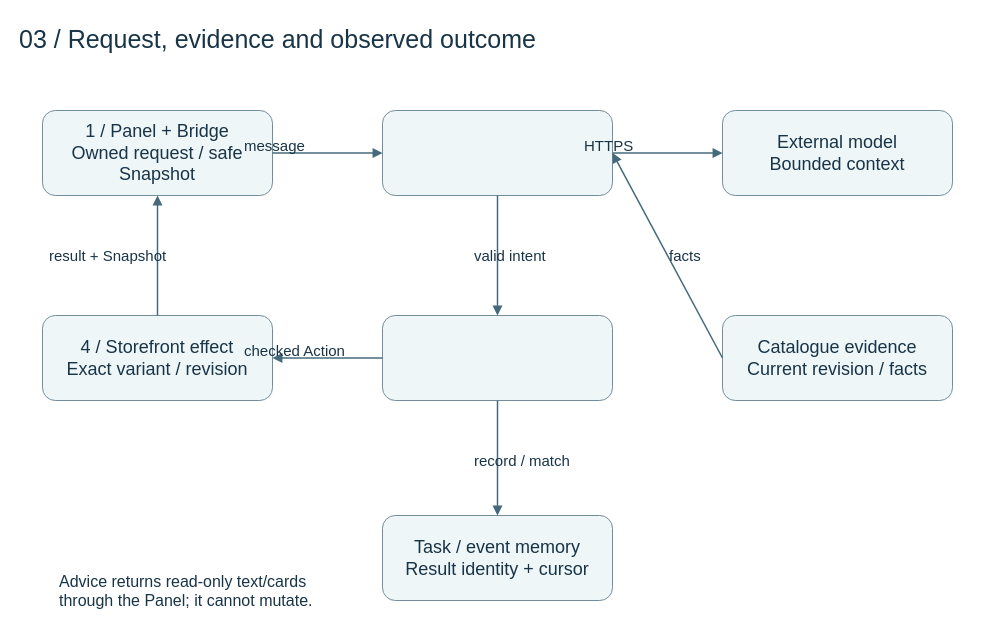
Some shapes in this 994 by 630 pixel diagram are drawn without their labels. The shapes that lost their labels are listed below. From the top down, each one's centre as x and y in pixels, then its label:
the point at 497,153: 2 / Interpret + validate LLM is not authority
the point at 497,357: 3 / Plan + confirm Targets, bounds, freshness
